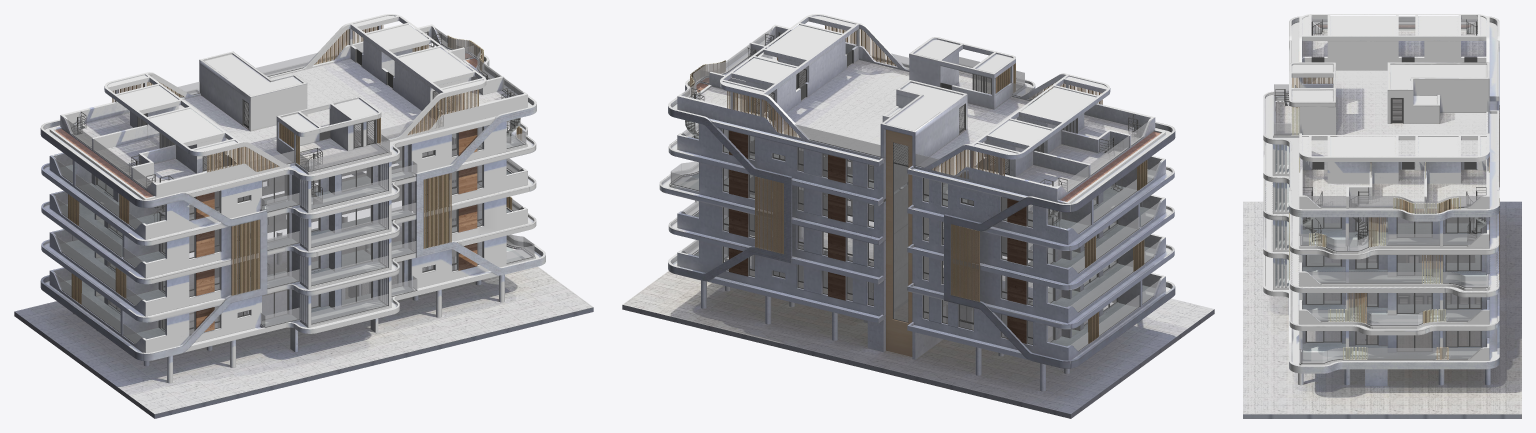
Rendered from type-b.glb.
3 views of the same model, side by side, from view 1: azimuth 30°, elevation 25°; view 2: azimuth 150°, elevation 25°; view 3: azimuth 270°, elevation 25° (orthographic). The views are drawn at different scales.
Parts seen in each view (by area): view 1: Groun_ Floor001, ROOF_SHADE, RAILING - 017, ROOF_FLOOR, ROOF_DOORS000, ROOF_BOONGALOS_CENTER, WOOD_RAILING_01, FLOOR_04_L, FLOOR_02_L, FLOOR_03_L, BELT_L, FLOOR_01_R (+17 smaller); view 2: Groun_ Floor001, ROOF_SHADE, ROOF_FLOOR, ROOF_DOORS000, ROOF_BOONGALOS_CENTER, WOOD_RAILING_01, RAILING - 017, FLOOR_01_R, FLOOR_04_L, BELT_L, WOOD_PANNELS_001, FLOOR_02_R (+19 smaller); view 3: Groun_ Floor001, ROOF_FLOOR, ROOF_SHADE, ROOF_BOONGALOS_CENTER, ROOF_DOORS000, RAILING - 017, ROOF_BUNGALOS_01, WOOD_RAILING_01, BELT_R, FLOOR_03, FLOOR_002, FLOOR_04 (+16 smaller).
Part boxes in pixels (box(x1,y1,x2,y2)): Groun_ Floor001: box(14, 221, 593, 418); ROOF_SHADE: box(49, 14, 527, 199); RAILING - 017: box(54, 27, 534, 343); ROOF_FLOOR: box(45, 38, 532, 199); ROOF_DOORS000: box(71, 31, 520, 335); ROOF_BOONGALOS_CENTER: box(176, 51, 495, 197); WOOD_RAILING_01: box(68, 25, 522, 304); FLOOR_04_L: box(49, 128, 392, 239); FLOOR_02_L: box(49, 191, 408, 316); FLOOR_03_L: box(49, 163, 391, 278); BELT_L: box(40, 119, 267, 360); FLOOR_01_R: box(237, 165, 535, 327); Groun_ Floor001: box(622, 220, 1214, 418); ROOF_SHADE: box(677, 14, 1165, 203); ROOF_FLOOR: box(672, 40, 1170, 203); ROOF_DOORS000: box(685, 31, 1143, 344); ROOF_BOONGALOS_CENTER: box(710, 37, 1035, 201); WOOD_RAILING_01: box(690, 25, 1147, 343); RAILING - 017: box(670, 27, 1161, 351); FLOOR_01_R: box(677, 187, 1007, 316); FLOOR_04_L: box(912, 130, 1165, 244); BELT_L: box(944, 122, 1175, 368); WOOD_PANNELS_001: box(729, 130, 1026, 343); FLOOR_02_R: box(677, 148, 908, 280); Groun_ Floor001: box(1243, 201, 1521, 418); ROOF_FLOOR: box(1265, 22, 1497, 212); ROOF_SHADE: box(1299, 14, 1489, 212); ROOF_BOONGALOS_CENTER: box(1263, 41, 1499, 189); ROOF_DOORS000: box(1275, 19, 1486, 351); RAILING - 017: box(1274, 16, 1488, 363); ROOF_BUNGALOS_01: box(1302, 41, 1486, 183); WOOD_RAILING_01: box(1289, 77, 1499, 359); BELT_R: box(1289, 187, 1499, 373); FLOOR_03: box(1275, 182, 1486, 284); FLOOR_002: box(1275, 217, 1481, 322); FLOOR_04: box(1275, 144, 1481, 246).
Size of the model in its own units: 39.02 by 19.31 by 21.63.
47 materials, 36 textured.
